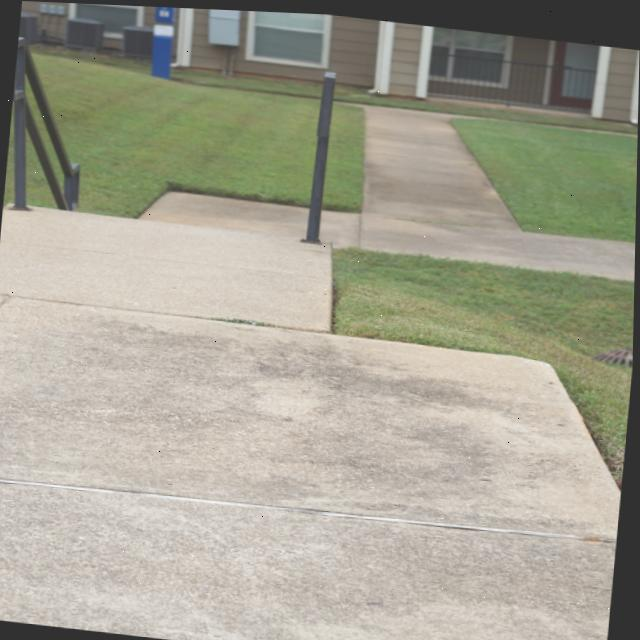Obstacle: (25, 48, 80, 208), (301, 68, 335, 241), (24, 98, 67, 208), (12, 37, 30, 209)
Sidewalk: (0, 297, 622, 532), (0, 484, 618, 640), (0, 207, 333, 328), (363, 104, 520, 224), (359, 209, 636, 275), (141, 190, 309, 237), (322, 208, 360, 243), (0, 296, 5, 306)
